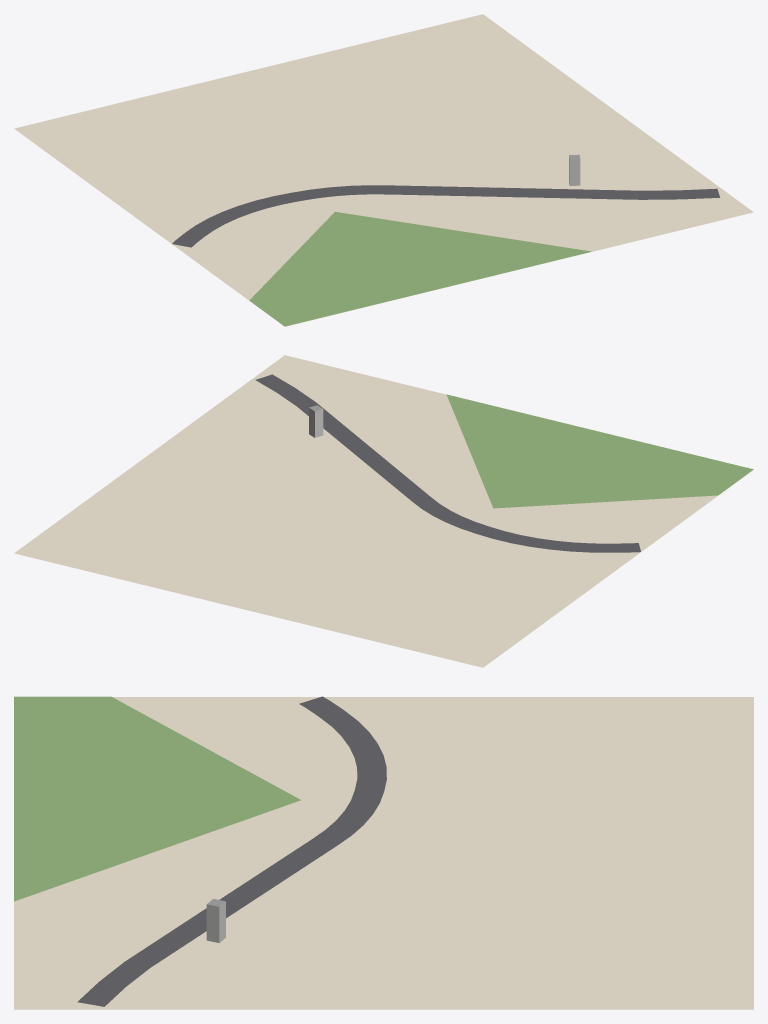
File: tile_3_-6_far.glb
3 renders of one model, top to bottom at view 1: azimuth 30°, elevation 25°; view 2: azimuth 150°, elevation 25°; view 3: azimuth 270°, elevation 25°, orthographic. The views are drawn at different scales.
Parts seen in each view (by area): view 1: nature_ground, nature_grass, roads_asphalt; view 2: nature_ground, nature_grass, roads_asphalt; view 3: nature_ground, nature_grass, roads_asphalt, buildings_concrete_light.
Boxes of the visible parts, x1,y1,x2,y2 form: nature_ground: (14, 14, 753, 326); nature_grass: (249, 211, 591, 326); roads_asphalt: (172, 185, 719, 247); nature_ground: (14, 355, 751, 667); nature_grass: (446, 394, 753, 508); roads_asphalt: (255, 374, 640, 552); nature_ground: (14, 697, 753, 1009); nature_grass: (14, 696, 300, 901); roads_asphalt: (77, 696, 386, 1006); buildings_concrete_light: (206, 901, 225, 942).
Size of the model in its own units: 250 by 13.62 by 250.
